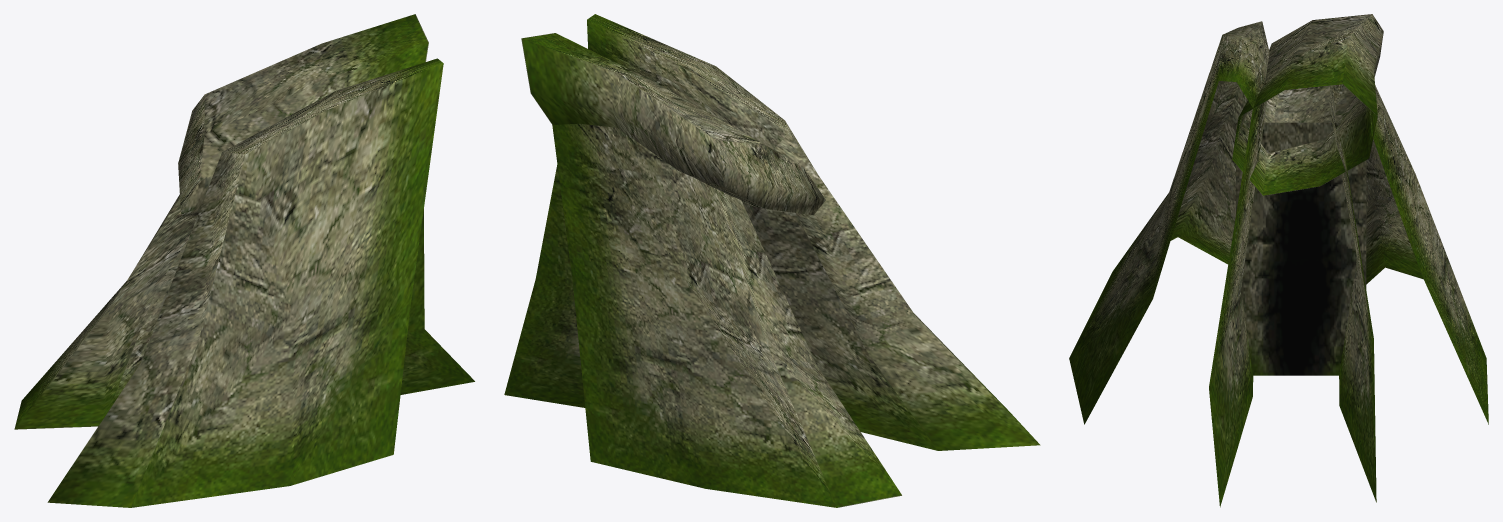
File: stst17.dae
The picture shows the model from 3 angles, left to right: view 1: azimuth 30°, elevation 25°; view 2: azimuth 150°, elevation 25°; view 3: azimuth 270°, elevation 25°; orthographic projection. The views are drawn at different scales.
Parts seen in each view (by area): view 1: cave01; view 2: cave01; view 3: cave01.
Part boxes in pixels (left/top/right/bottom): cave01: left=14, top=14, right=474, bottom=507; cave01: left=504, top=14, right=1040, bottom=507; cave01: left=1069, top=14, right=1488, bottom=507.
Size of the model in its own units: 2.32 by 1.52 by 1.67.
Materials: 1 (1 with a texture image).
